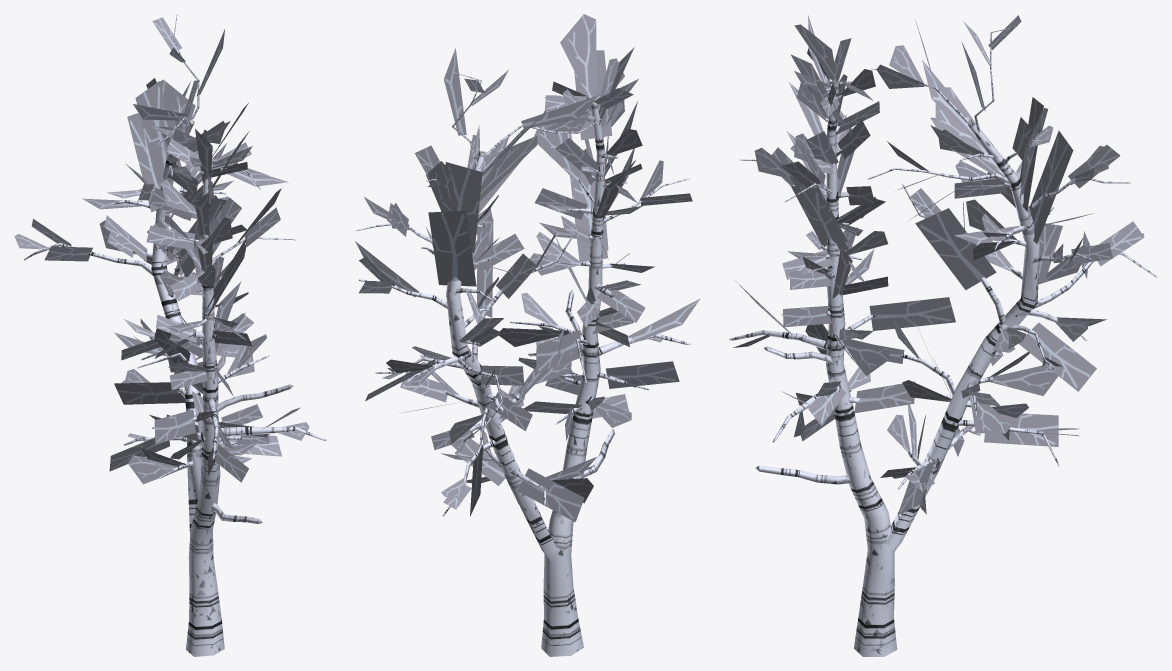
File: Birch_01.fbx
3 renders of one model, left to right at view 1: azimuth 30°, elevation 25°; view 2: azimuth 150°, elevation 25°; view 3: azimuth 270°, elevation 25°, orthographic. The views are drawn at different scales.
Parts seen in each view (by area): view 1: LOD0; view 2: LOD0; view 3: LOD0.
Boxes of the visible parts, x1,y1,x2,y2 form: LOD0: [14, 14, 326, 656]; LOD0: [355, 14, 700, 656]; LOD0: [729, 15, 1157, 656].
Size of what is drawn, in the model's own units: 320 by 941 by 568.
